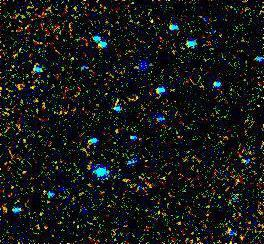star: (49, 178, 79, 208)
